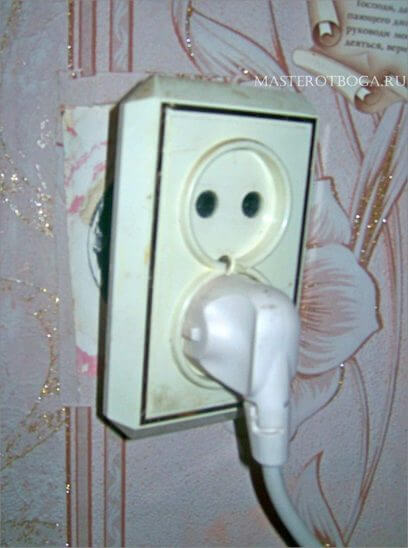raccoon: (183, 137, 288, 271)
